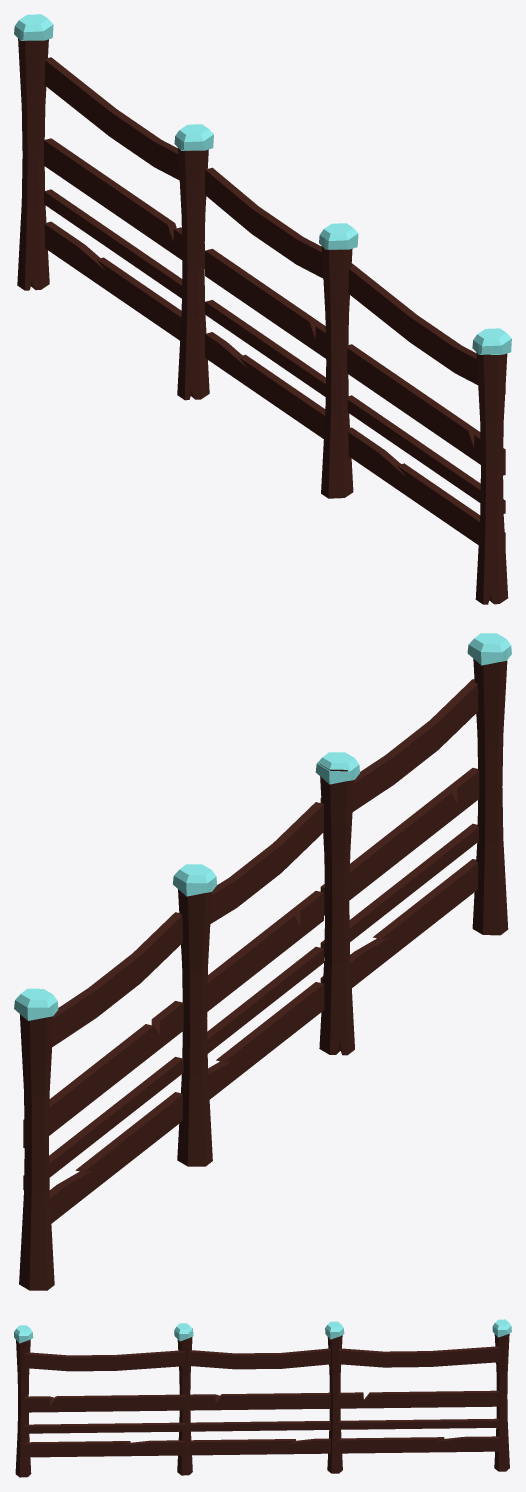
The model's file is fence.fbx.
3 views of the same model, one above another, from view 1: azimuth 30°, elevation 25°; view 2: azimuth 150°, elevation 25°; view 3: azimuth 270°, elevation 25° (orthographic). The views are drawn at different scales.
Parts seen in each view (by area): view 1: fence; view 2: fence; view 3: fence.
Part boxes in pixels (bbox=[...]): fence: bbox=[14, 14, 511, 604]; fence: bbox=[14, 633, 511, 1290]; fence: bbox=[14, 1319, 511, 1477].
Size of the model in its own units: 15.73 by 74.33 by 230.
2 materials, 1 textured.
